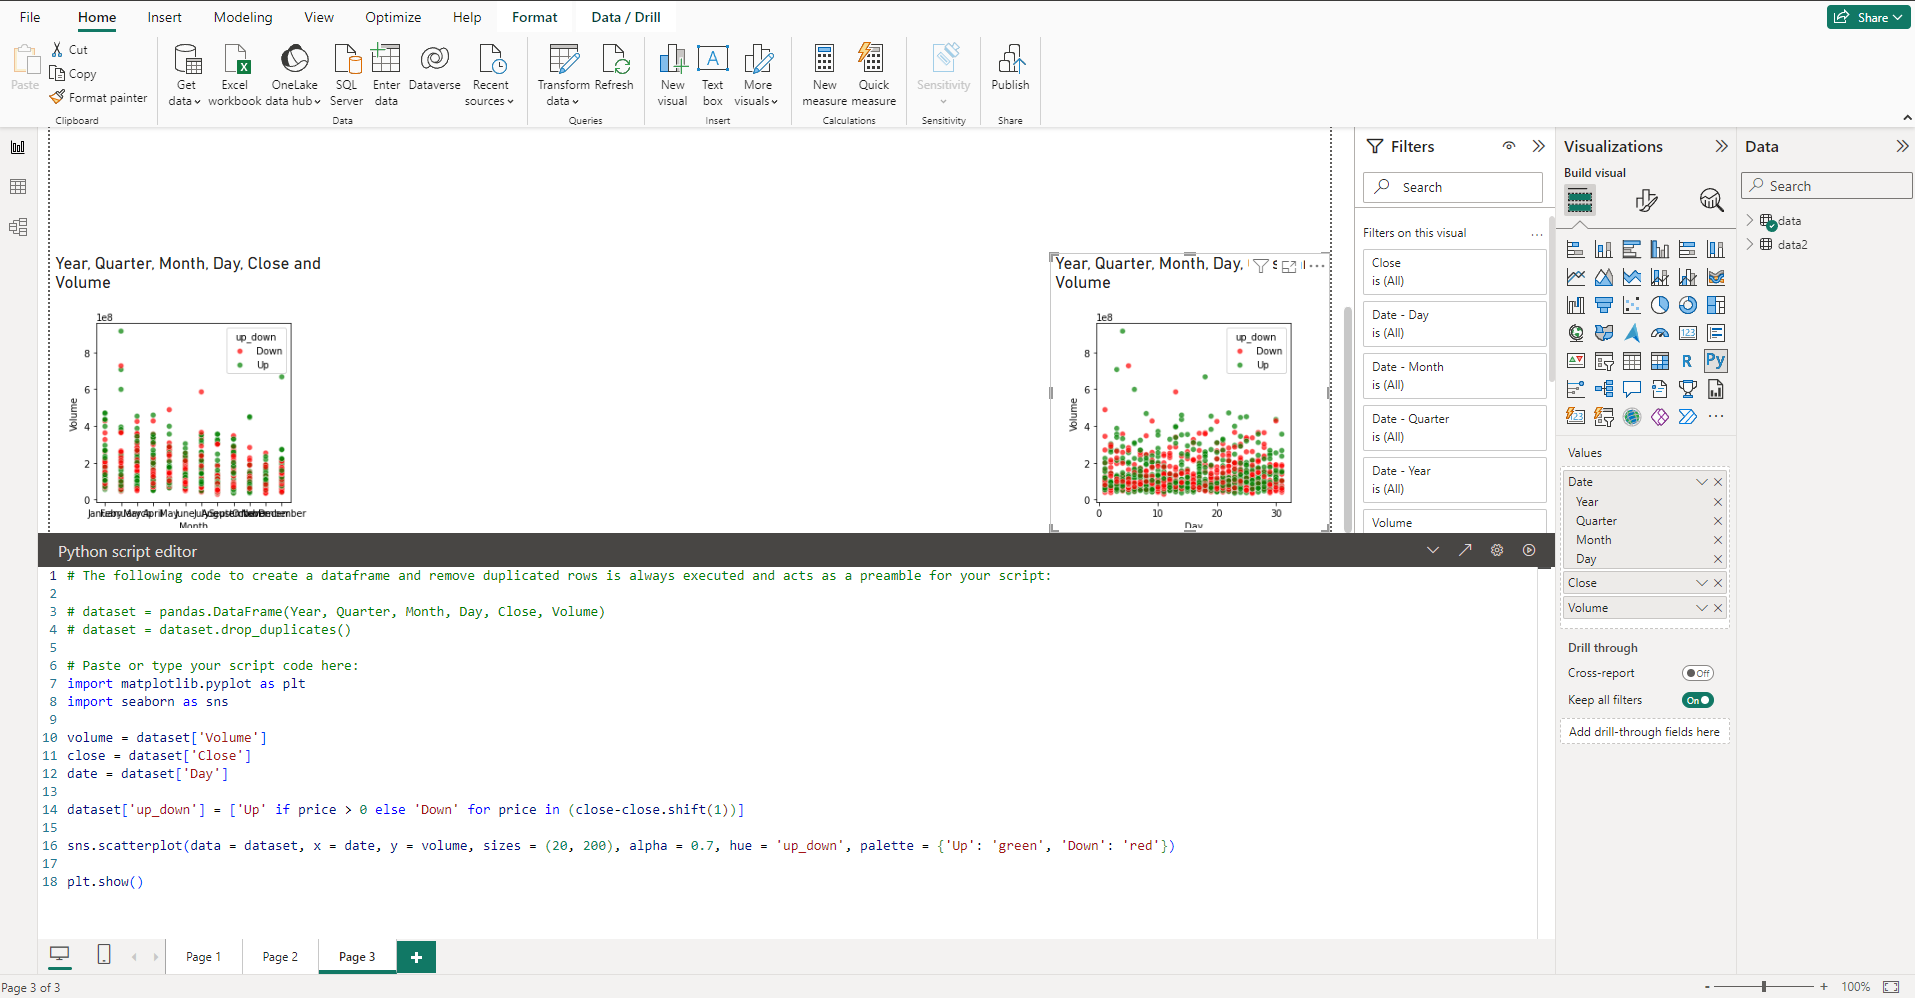

This screenshot's page, from the dashboard's own definition file:
{"tool":"powerbi","page":{"name":"Page 3","canvas":[1280,720],"ordinal":2},"visuals":[{"type":"pythonVisual","fields":{"Values":["data.Date.Variation.Date Hierarchy.Year","data.Date.Variation.Date Hierarchy.Quarter","data.Date.Variation.Date Hierarchy.Month","data.Date.Variation.Date Hierarchy.Day","data.Close","data.Volume"]},"box":[10,0,280,280],"z":0},{"type":"pythonVisual","fields":{"Values":["data.Date.Variation.Date Hierarchy.Year","data.Date.Variation.Date Hierarchy.Quarter","data.Date.Variation.Date Hierarchy.Month","data.Date.Variation.Date Hierarchy.Day","data.Close","data.Volume"]},"box":[1000,0,280,280],"z":1000},{"type":"pythonVisual","fields":{"Values":["data.Date.Variation.Date Hierarchy.Year","data.Date.Variation.Date Hierarchy.Quarter","data.Date.Variation.Date Hierarchy.Month","data.Date.Variation.Date Hierarchy.Day","data.Close","data.Volume"]},"box":[0,440,280,280],"z":2000},{"type":"pythonVisual","fields":{"Values":["data.Date.Variation.Date Hierarchy.Year","data.Date.Variation.Date Hierarchy.Quarter","data.Date.Variation.Date Hierarchy.Month","data.Date.Variation.Date Hierarchy.Day","data.Close","data.Volume"]},"box":[1000,440,280,280],"z":3000}]}

Visuals, with their boxes on the page's 1280x720 design canvas (x1, y1, x2, y2). These are canvas units, not pixel positions in the 1915x998 screenshot, which may show the page scaled, cropped or inside an application window:
pythonVisual - data.Date.Variation.Date Hierarchy.Year x data.Date.Variation.Date Hierarchy.Quarter: <region>10, 0, 290, 280</region>
pythonVisual - data.Date.Variation.Date Hierarchy.Year x data.Date.Variation.Date Hierarchy.Quarter: <region>1000, 0, 1280, 280</region>
pythonVisual - data.Date.Variation.Date Hierarchy.Year x data.Date.Variation.Date Hierarchy.Quarter: <region>0, 440, 280, 720</region>
pythonVisual - data.Date.Variation.Date Hierarchy.Year x data.Date.Variation.Date Hierarchy.Quarter: <region>1000, 440, 1280, 720</region>
